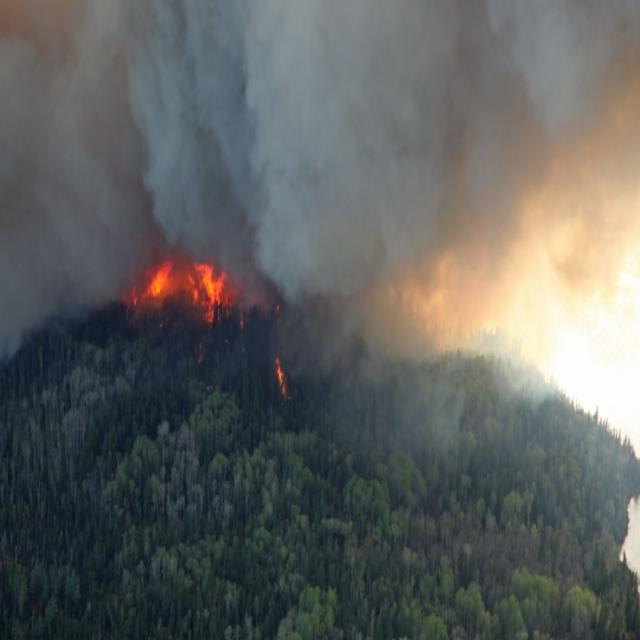smoke: (4, 13, 483, 256)
